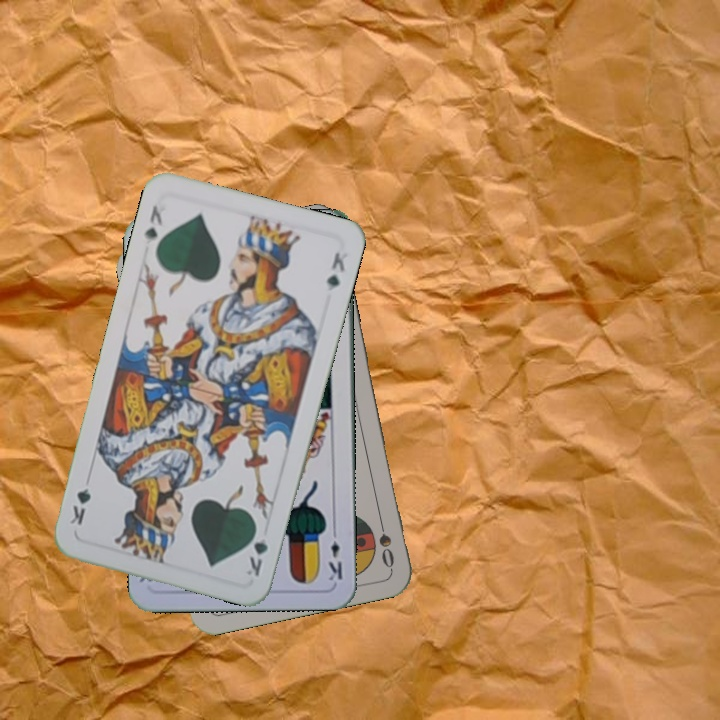EK: (325, 524, 345, 583)
GK: (242, 521, 271, 579), (140, 200, 165, 248)
SO: (374, 512, 397, 571)
